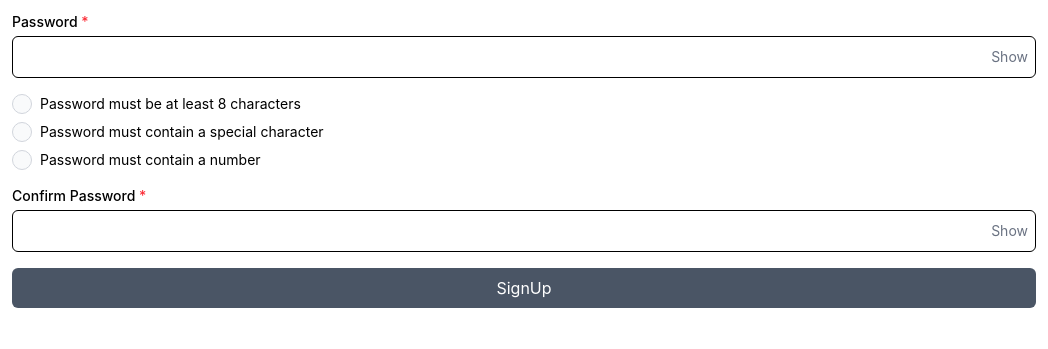
PasswordStep › shows validation errors when submitting empty passwords
Step 1. Click the button "SignUp" → (524, 288), box [12,268,1036,308]
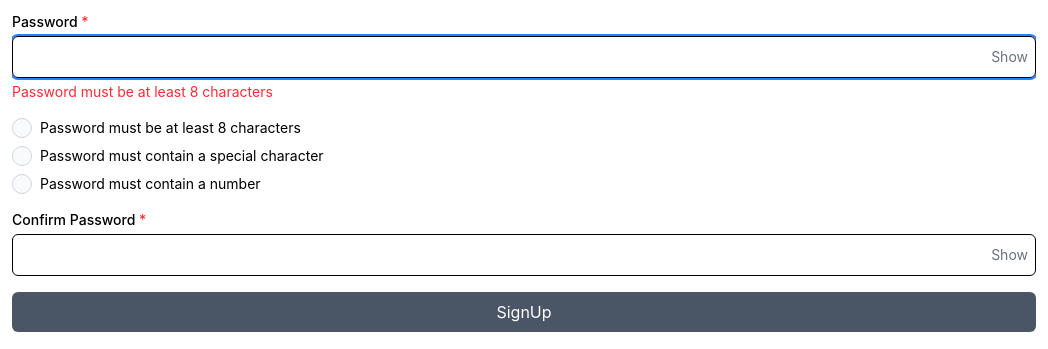
Now the 1st text "Password must be at least 8 characters" is shown, box [12,83,273,100]
